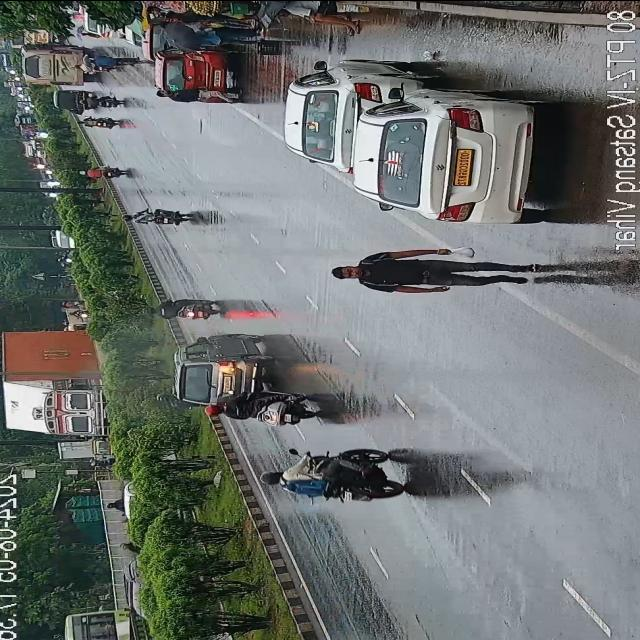2-wheelers: (264, 440, 410, 506), (212, 380, 322, 428), (153, 296, 220, 321), (125, 206, 188, 230), (84, 165, 130, 182), (85, 54, 145, 65), (79, 115, 123, 127), (80, 96, 120, 106)
auto: (53, 88, 92, 114)
bus: (21, 38, 92, 90), (62, 613, 182, 640)
car: (355, 88, 540, 225), (282, 62, 404, 164), (173, 335, 269, 411), (157, 51, 225, 85)
pedestrian: (330, 254, 535, 288), (268, 0, 364, 37), (157, 13, 251, 31), (156, 85, 238, 101), (192, 27, 256, 43)
truck: (0, 319, 93, 444)
